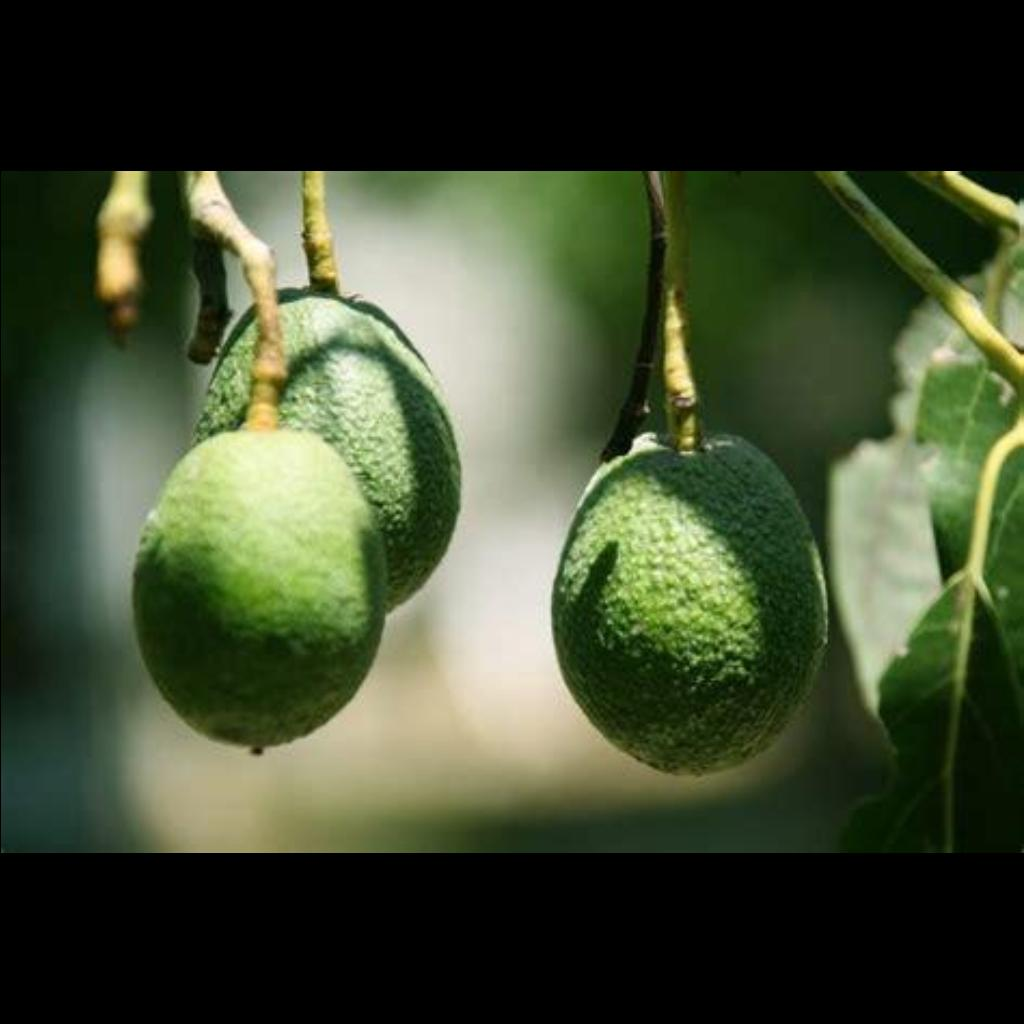Healthy: (562, 430, 856, 792), (124, 428, 380, 760), (289, 270, 483, 536)
